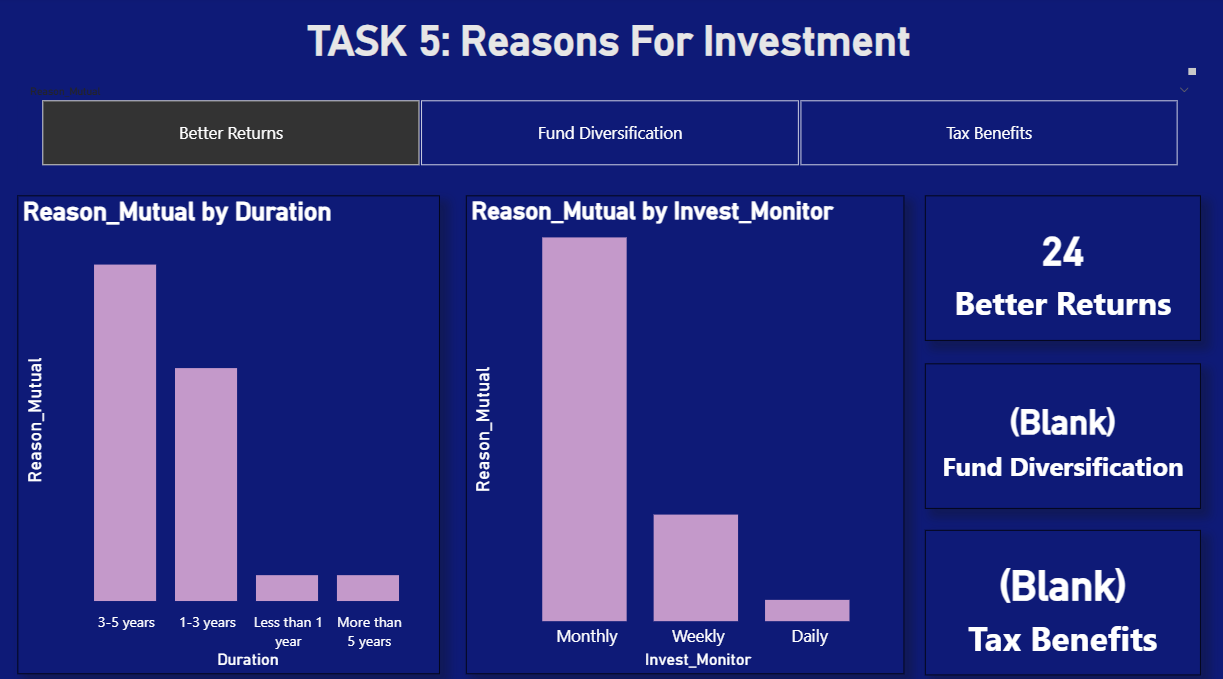

This screenshot's page, from the dashboard's own definition file:
{"tool":"powerbi","page":{"name":"Task 5","canvas":[1280,720],"ordinal":4},"visuals":[{"type":"textbox","title":"TASK 5: Reasons For Investment","box":[23.5,20.2,1233,67.2],"z":0},{"type":"clusteredColumnChart","fields":{"Category":["Data_set 2.Duration"],"Y":["CountNonNull(Data_set 2.Reason_Mutual)"]},"box":[23.5,208.3,440.1,498.9],"z":1000},{"type":"clusteredColumnChart","fields":{"Y":["CountNonNull(Data_set 2.Reason_Mutual)"],"Category":["Data_set 2.Invest_Monitor"]},"box":[490.5,208.3,456.9,498.9],"z":2000},{"type":"slicer","fields":{"Values":["Data_set 2.Reason_Mutual"]},"box":[23.5,87.3,1233,95.7],"z":3000},{"type":"card","fields":{"Values":["Data_set 2.Better Returns"]},"box":[969.2,208.3,287.2,151.2],"z":4000},{"type":"card","fields":{"Values":["Data_set 2.Fund Diversification"]},"box":[969.2,383,287.2,151.2],"z":5000},{"type":"card","fields":{"Values":["Data_set 2.Tax Benefits"]},"box":[969.2,556,287.2,151.2],"z":6000}]}

Visuals, with their boxes in screenshot pixels (x1, y1, x2, y2), scaled from the page's 1280x720 canvas onto the 1223x679 screenshot:
"TASK 5: Reasons For Investment" textbox: bbox(22, 19, 1201, 82)
clusteredColumnChart - Data_set 2.Duration x CountNonNull(Data_set 2.Reason_Mutual): bbox(22, 196, 443, 667)
clusteredColumnChart - CountNonNull(Data_set 2.Reason_Mutual) x Data_set 2.Invest_Monitor: bbox(469, 196, 905, 667)
slicer - Data_set 2.Reason_Mutual: bbox(22, 82, 1201, 173)
card - Data_set 2.Better Returns: bbox(926, 196, 1200, 339)
card - Data_set 2.Fund Diversification: bbox(926, 361, 1200, 504)
card - Data_set 2.Tax Benefits: bbox(926, 524, 1200, 667)
